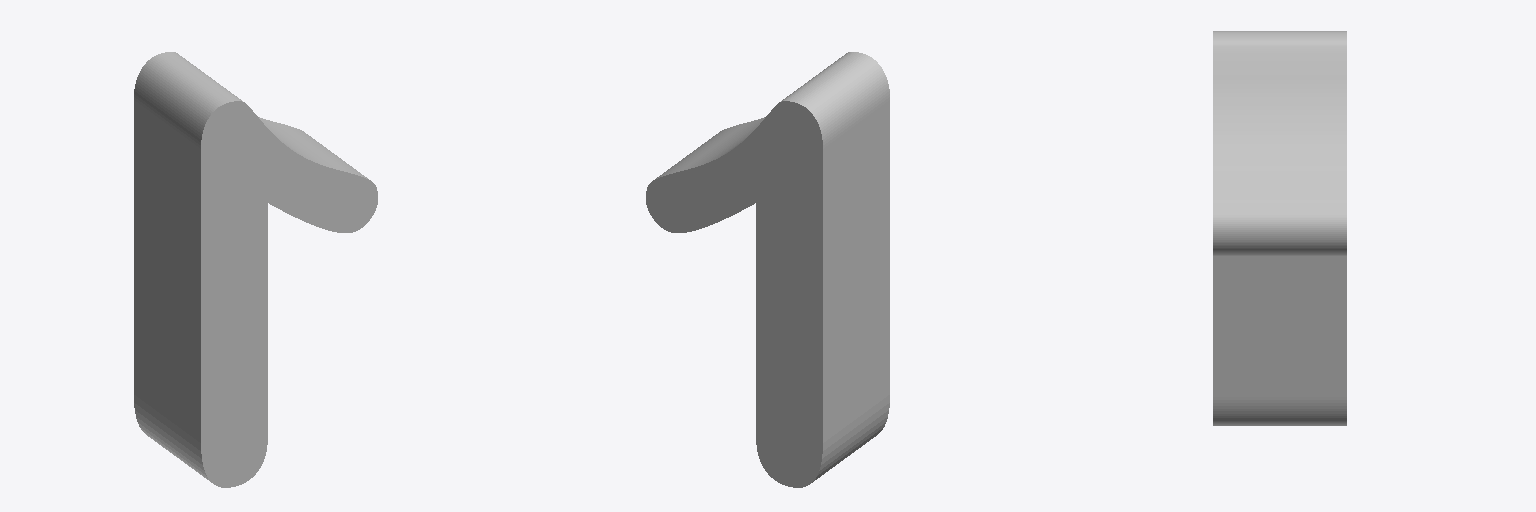
3 renders of one model, left to right at view 1: azimuth 30°, elevation 25°; view 2: azimuth 150°, elevation 25°; view 3: azimuth 270°, elevation 25°, orthographic.
Visible parts, largest first — view 1: テキスト; view 2: テキスト; view 3: テキスト.
Boxes of the visible parts, x1,y1,x2,y2 form: テキスト: [134, 52, 377, 487]; テキスト: [646, 52, 889, 487]; テキスト: [1213, 31, 1346, 425].
Size of the model in its own units: 0.3042 by 0.6329 by 0.2.